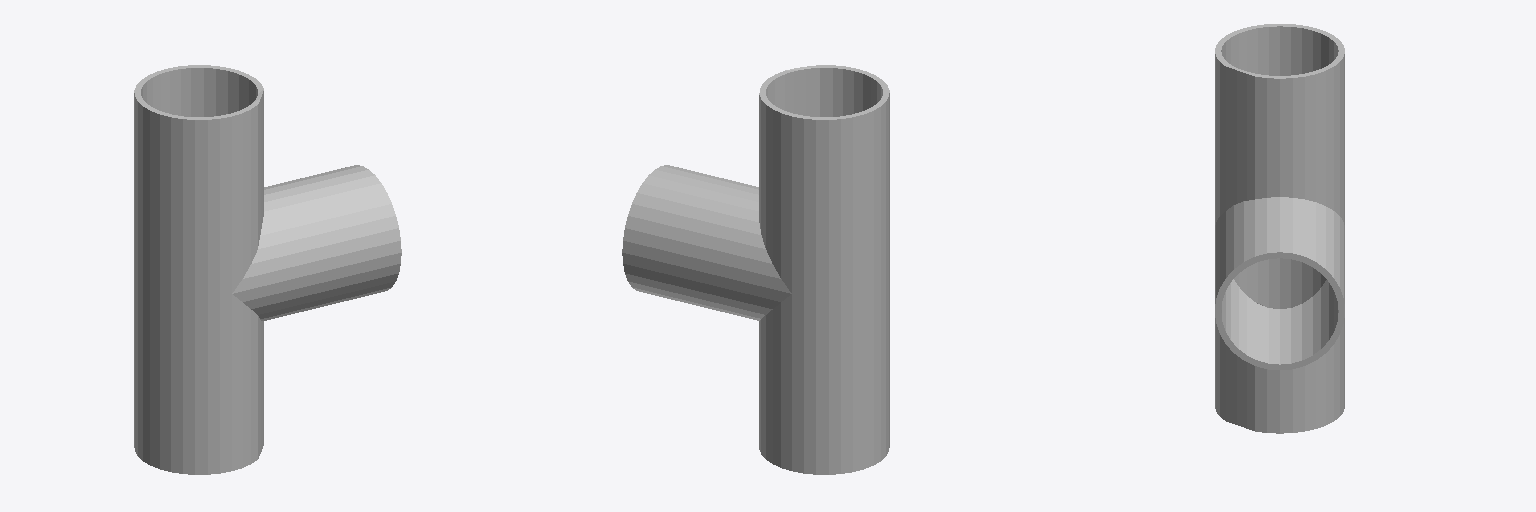
Rendered from TPipe.obj.
The picture shows the model from 3 angles: view 1: azimuth 30°, elevation 25°; view 2: azimuth 150°, elevation 25°; view 3: azimuth 270°, elevation 25°; orthographic projection.
Parts seen in each view (by area): view 1: Cylinder; view 2: Cylinder; view 3: Cylinder.
Boxes of the visible parts, x1,y1,x2,y2 form: Cylinder: [134, 65, 401, 474]; Cylinder: [622, 65, 889, 474]; Cylinder: [1215, 24, 1344, 433].
Bounding box in the file's own units: 4 × 6.01 × 2.